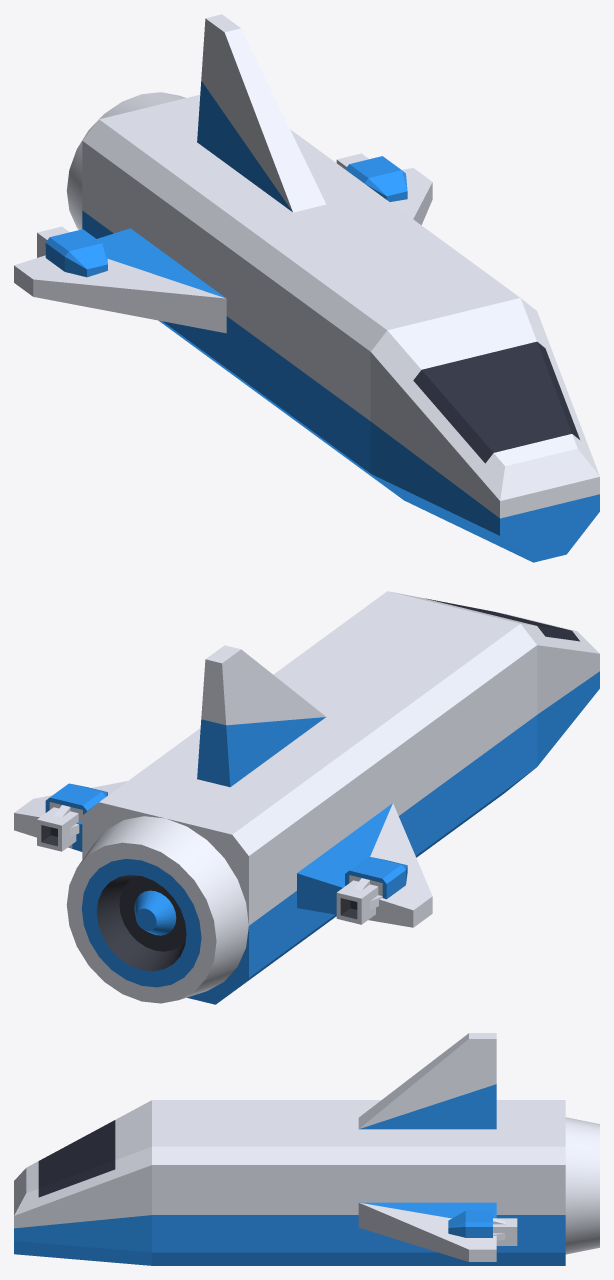
Rendered from Ship.fbx.
3 views of the same model, one above another, from view 1: azimuth 30°, elevation 25°; view 2: azimuth 150°, elevation 25°; view 3: azimuth 270°, elevation 25° (orthographic). The views are drawn at different scales.
Parts seen in each view (by area): view 1: hull_body, hull_cockpitPoint, rudder (×3), engine_detailed (×2), engine_round; view 2: hull_body, engine_round, rudder (×3), hull_cockpitPoint, engine_detailed (×2); view 3: hull_body, hull_cockpitPoint, rudder (×2), engine_round, engine_detailed.
Part boxes in pixels (left/top/right/bottom): hull_body: left=82, top=95, right=520, bottom=498; hull_cockpitPoint: left=370, top=298, right=599, bottom=562; rudder (×3): left=14, top=14, right=432, bottom=333; engine_detailed (×2): left=37, top=153, right=407, bottom=277; engine_round: left=66, top=92, right=185, bottom=229; hull_body: left=82, top=591, right=537, bottom=1004; engine_round: left=66, top=816, right=248, bottom=1003; rudder (×3): left=14, top=645, right=432, bottom=927; hull_cockpitPoint: left=390, top=591, right=599, bottom=766; engine_detailed (×2): left=37, top=783, right=407, bottom=924; hull_body: left=152, top=1100, right=565, bottom=1265; hull_cockpitPoint: left=14, top=1100, right=151, bottom=1265; rudder (×2): left=358, top=1033, right=496, bottom=1261; engine_round: left=565, top=1117, right=599, bottom=1254; engine_detailed: left=448, top=1210, right=517, bottom=1245.
Size of the model in its own units: 24 by 17 by 42.5.
